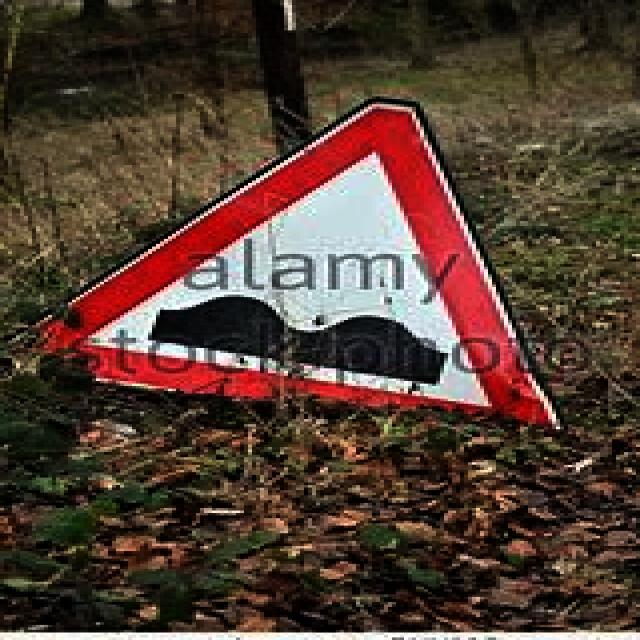BUMPS: (0, 84, 580, 434)
